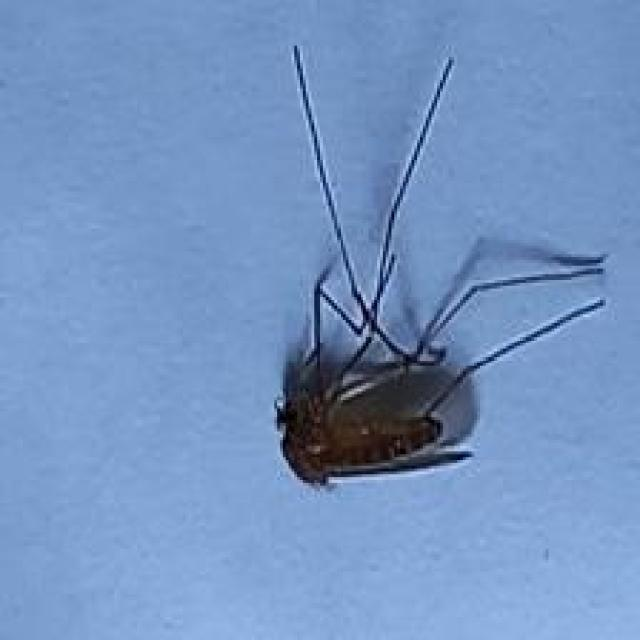Culex: (270, 43, 610, 491)
